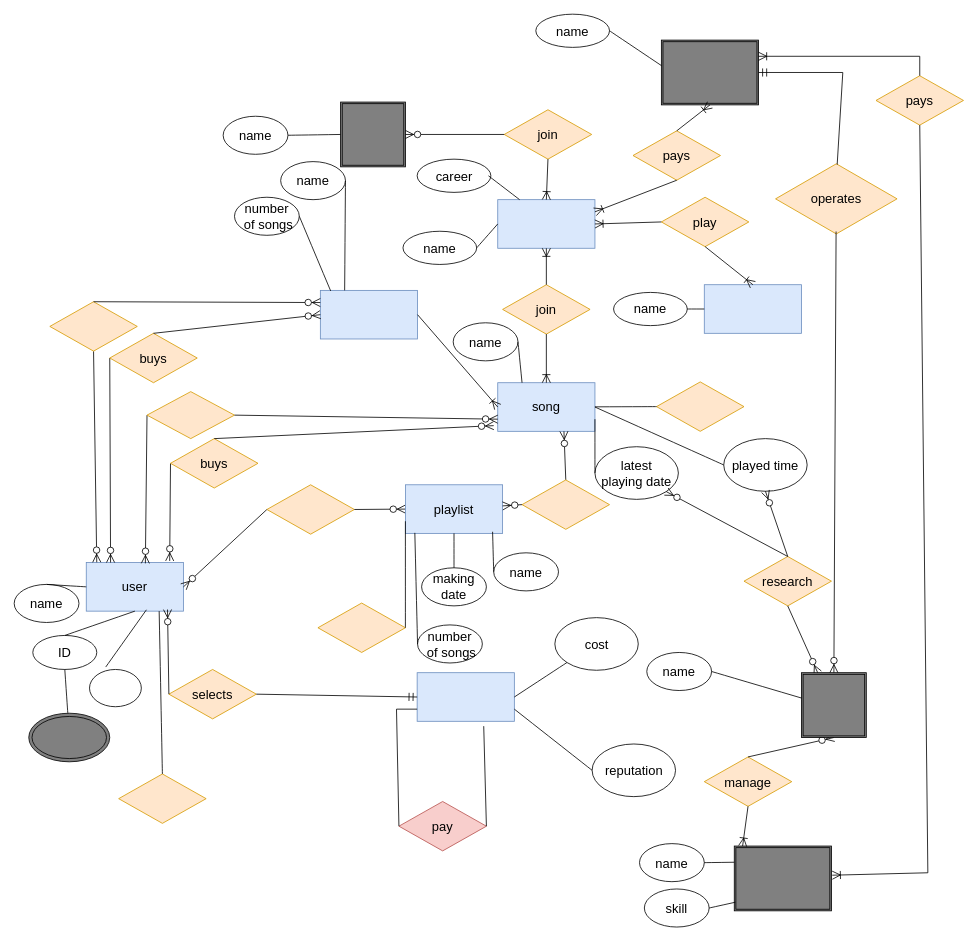
Some shapes in this 978 by 941 pixel diagram are drawn without their labels. The shapes that lost their labels are listed below. From the top down, each one's centre as x and y in pixels, then its label:
At (710,72): "record label".
At (372,134): "band".
At (546,223): "artist".
At (93,326): "evaluates".
At (369,314): "album".
At (752,308): "instrument".
At (190,415): "evaluate".
At (700,406): "show artist info".
At (310,509): "makes".
At (565,504): "contains".
At (361,627): "sort".
At (115,688): "e-mail".
At (465,696): "subscription plan".
At (833,705): "platform".
At (69,737): "passward".
At (162,798): "sign up".
At (782,878): "programmer".
